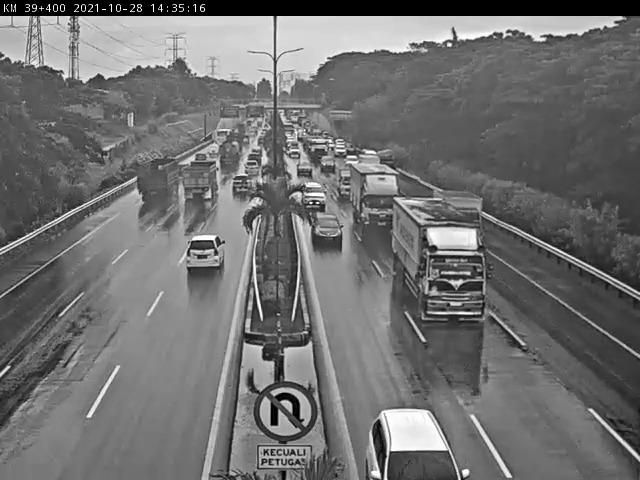big bus: (214, 129, 226, 144)
big truck: (400, 191, 498, 332), (346, 158, 393, 216), (133, 149, 173, 204), (178, 165, 212, 209), (218, 143, 236, 167), (308, 138, 328, 153), (228, 135, 240, 149)
car: (376, 386, 440, 480), (176, 235, 223, 281), (306, 204, 342, 232), (300, 175, 324, 200), (228, 180, 248, 200), (334, 166, 348, 189), (296, 159, 312, 174), (290, 142, 302, 160), (318, 154, 332, 169), (242, 166, 255, 181), (203, 145, 213, 160), (188, 156, 200, 168), (248, 156, 259, 167), (335, 144, 343, 154)
